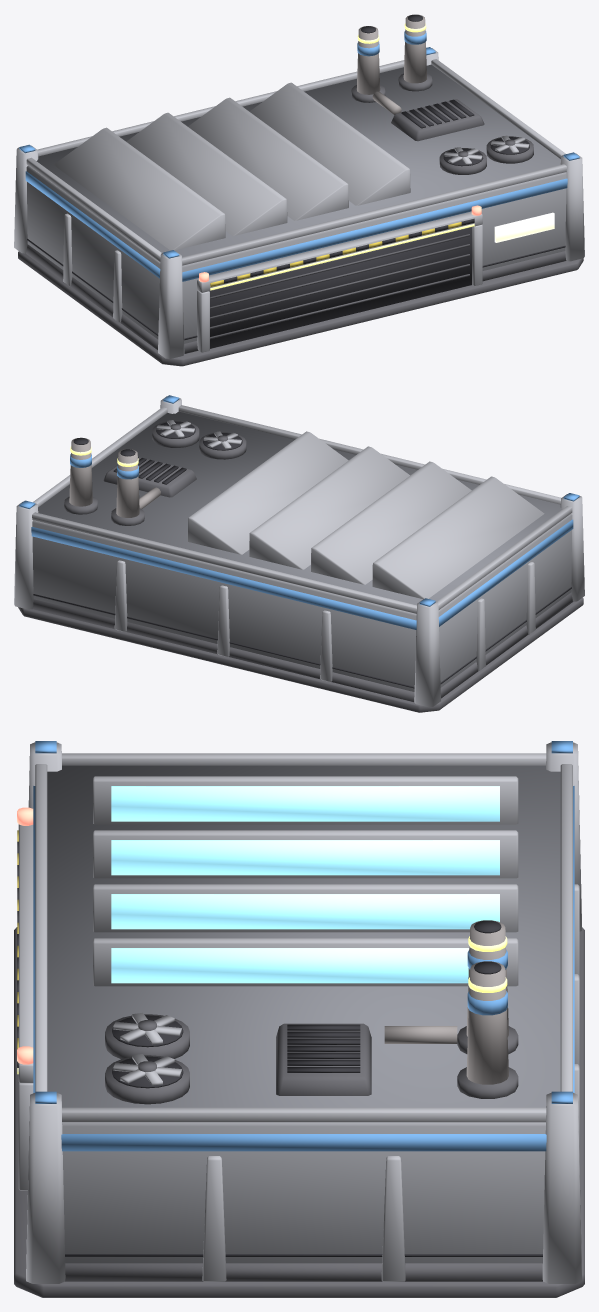
Rendered from factory.glb.
3 views of the same model, one above another, from view 1: azimuth 30°, elevation 25°; view 2: azimuth 150°, elevation 25°; view 3: azimuth 270°, elevation 25° (orthographic). The views are drawn at different scales.
Visible parts, largest first — view 1: body; view 2: body; view 3: body.
Boxes of the visible parts, left/top/right/bottom form: body: left=14, top=14, right=584, bottom=366; body: left=14, top=395, right=584, bottom=712; body: left=14, top=741, right=584, bottom=1297.
Bounding box in the file's own units: 2.88 × 1.07 × 1.88.
